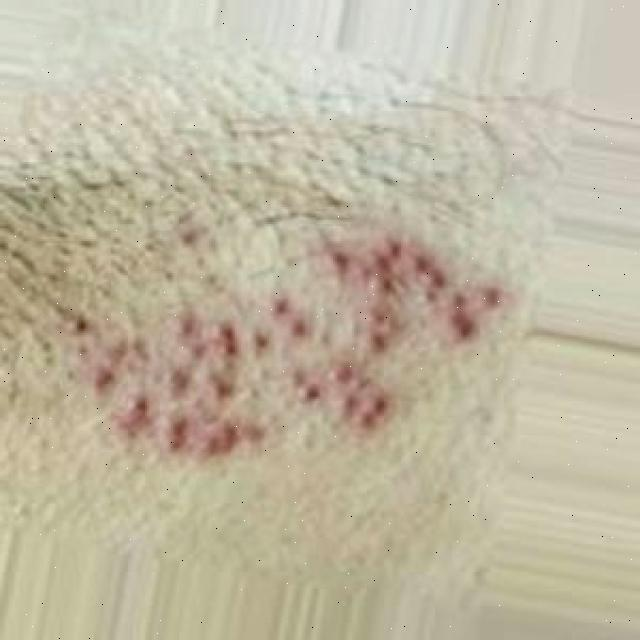Shingles: (72, 234, 496, 466)
